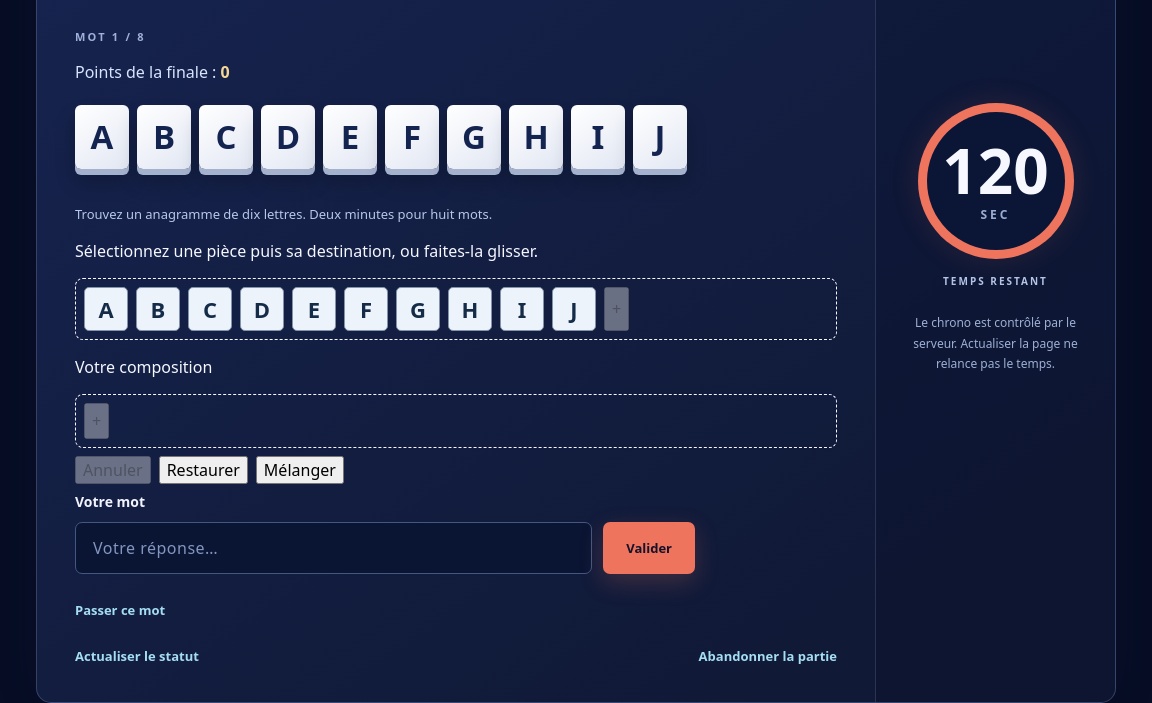
Scenario: finale can skip a word and updates progression from server
This screenshot has width=1152, height=703.
(page scrolled)
Expected: the text "MOT 1 / 8" is shown, [75,29,146,44]
Click the button "Passer ce mot". click: [120, 610]
box: [75,601,165,619]
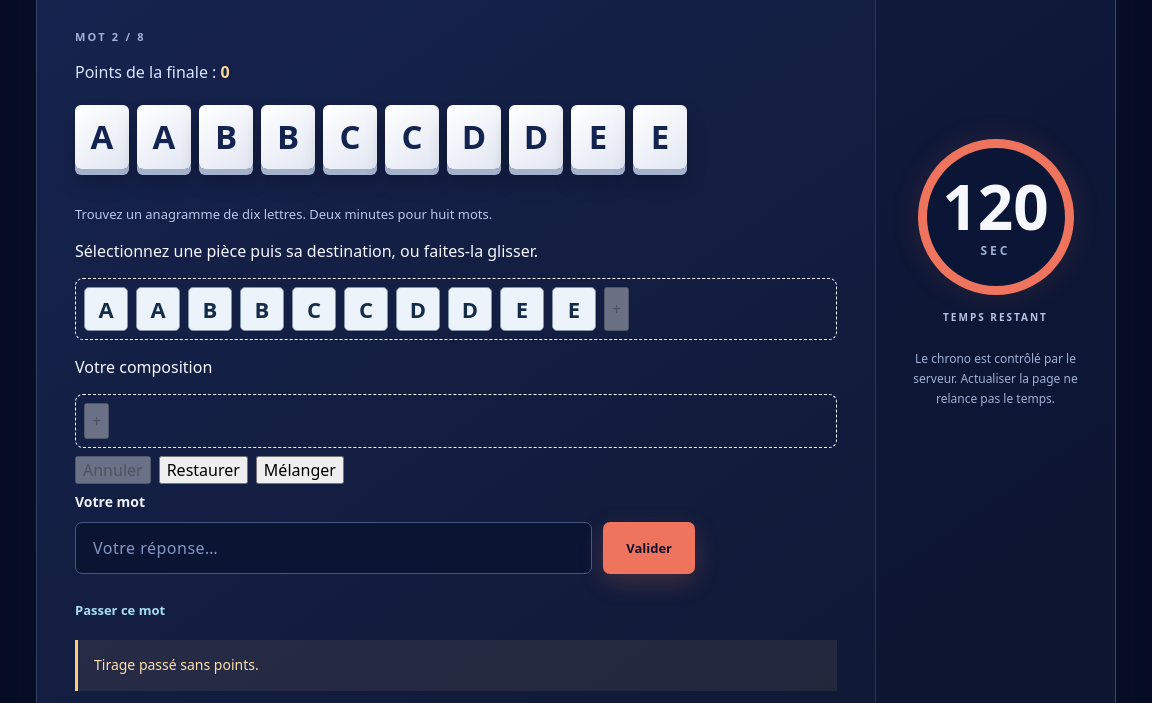
Now the text "MOT 2 / 8" is shown, box [75,29,146,44]
